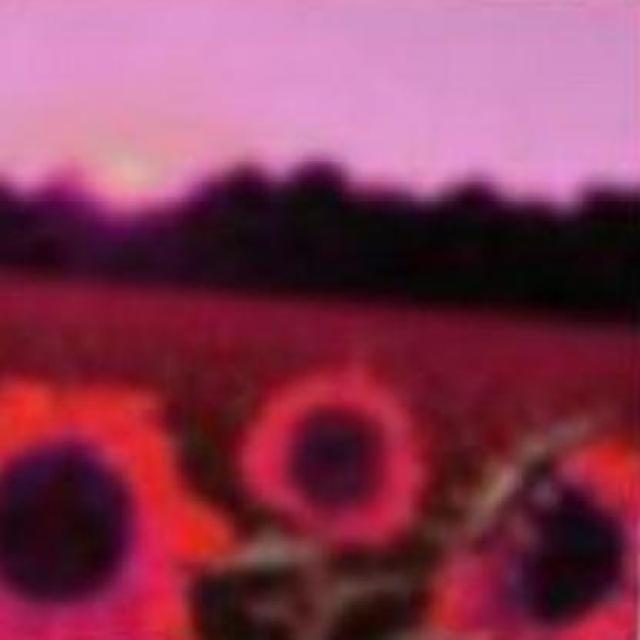sunflower: (0, 380, 220, 640), (424, 437, 638, 640), (238, 373, 432, 542)
